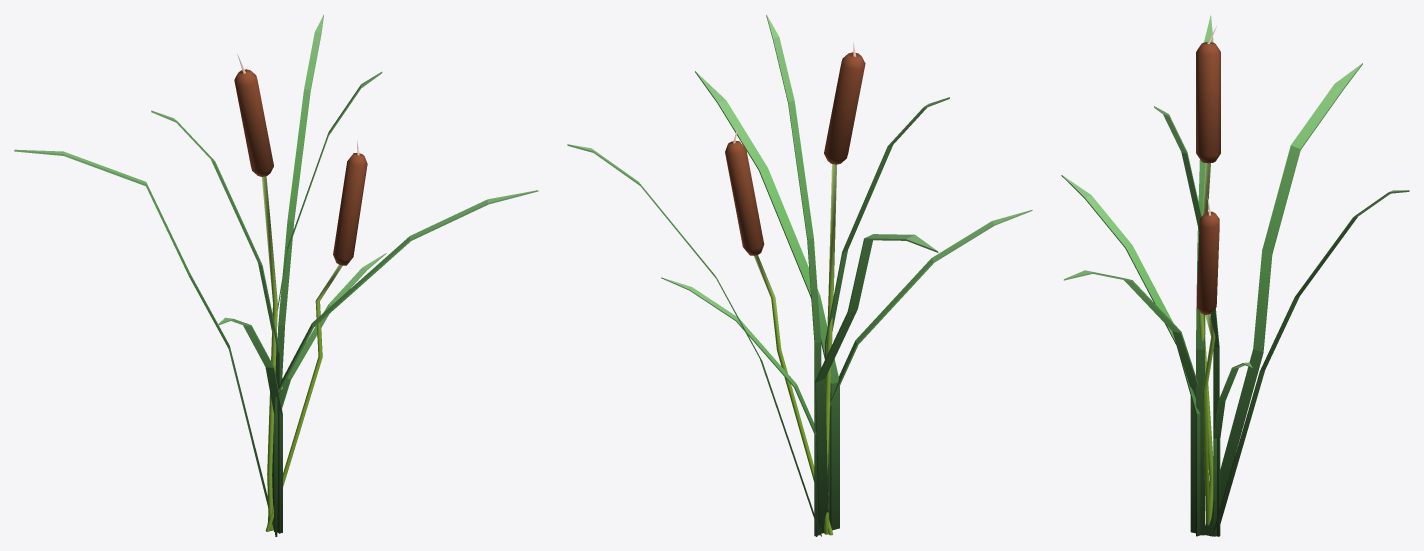
Rendered from Cattail_A_1.fbx.
3 renders of one model, left to right at view 1: azimuth 30°, elevation 25°; view 2: azimuth 150°, elevation 25°; view 3: azimuth 270°, elevation 25°, orthographic. The views are drawn at different scales.
Visible parts, largest first — view 1: Cattail_A_1; view 2: Cattail_A_1; view 3: Cattail_A_1.
Boxes of the visible parts, x1,y1,x2,y2 form: Cattail_A_1: [14, 14, 538, 536]; Cattail_A_1: [567, 14, 1032, 536]; Cattail_A_1: [1061, 15, 1409, 536].
Bounding box in the file's own units: 111 × 134 × 85.78.
